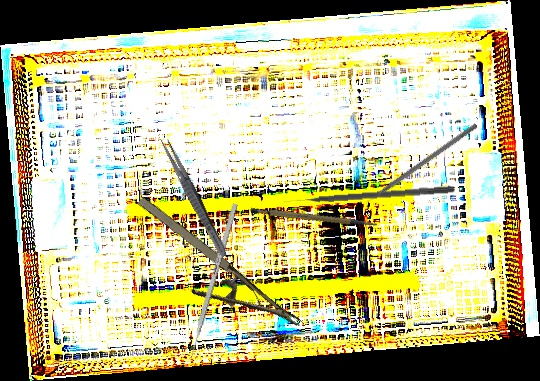Dressing Forceps: (156, 134, 231, 260)
Hook Surgical: (358, 122, 479, 209)
Needle Holder: (115, 191, 304, 360)
Pusher: (185, 202, 238, 370), (283, 184, 456, 205)
Scalpel Handle: (249, 190, 379, 248)
